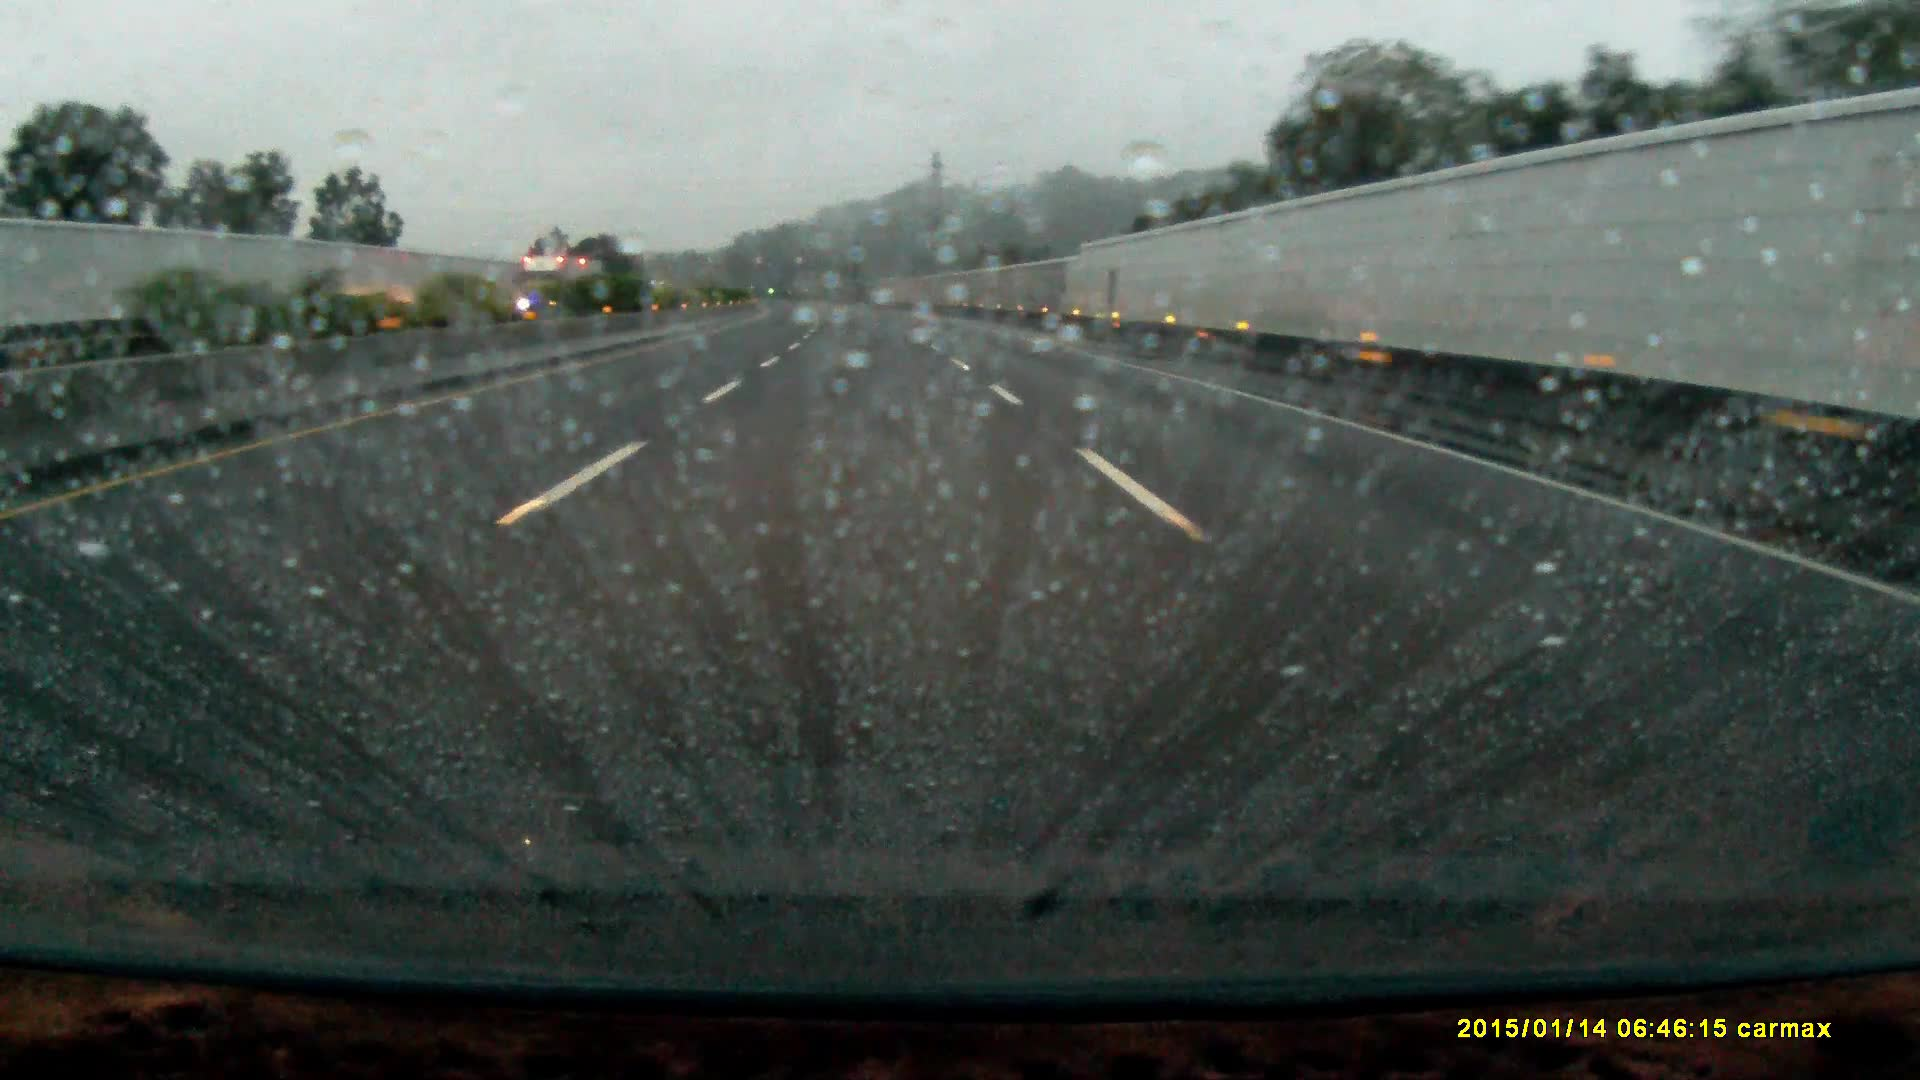vehicle: (516, 253, 603, 313)
